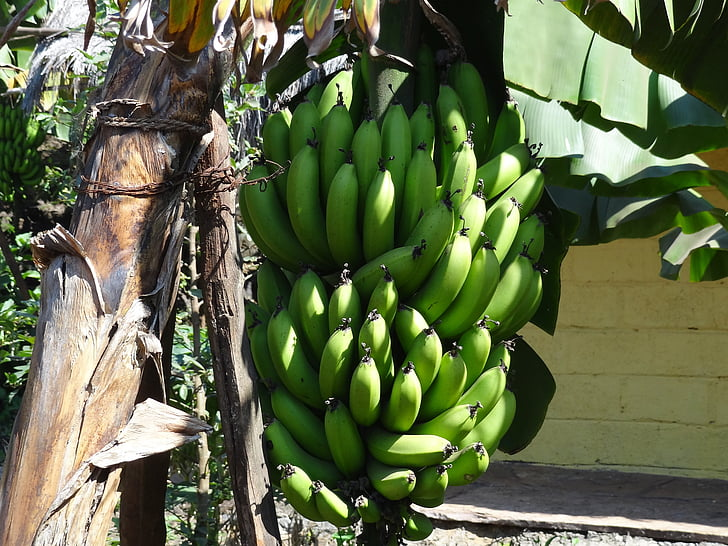looks_defective: (219, 65, 554, 537)
